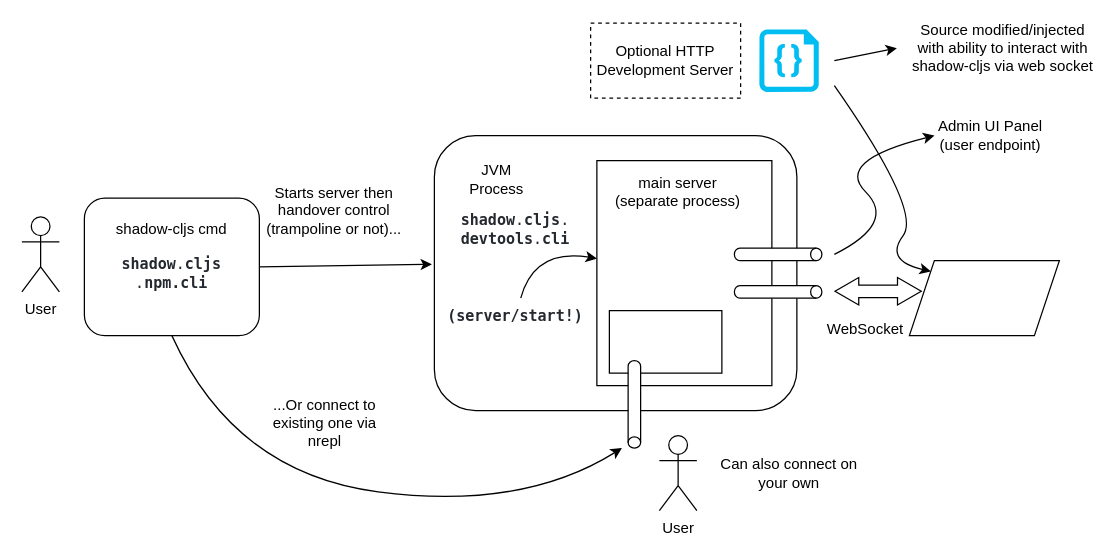
Some shapes in this 1119 by 559 pixel diagram are drawn without their labels. Each missing label, with the box of its shape:
CLJS Process: (908, 259, 1059, 336)
nrepl server: (608, 309, 722, 373)
